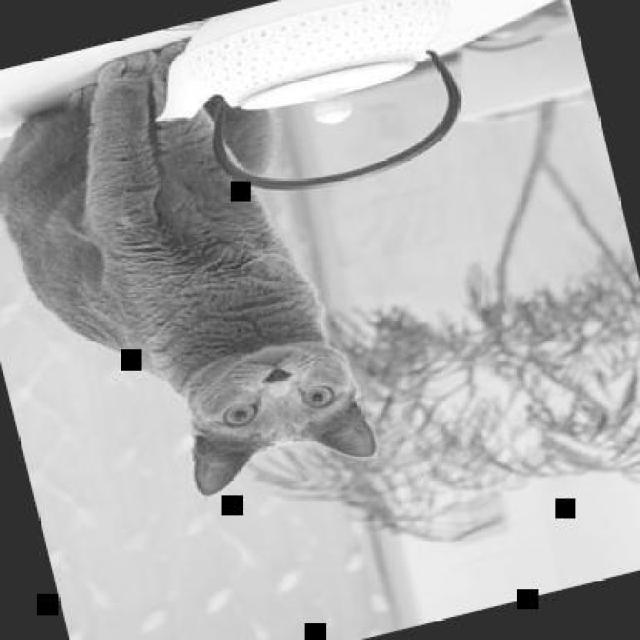cat: (0, 17, 383, 534)
